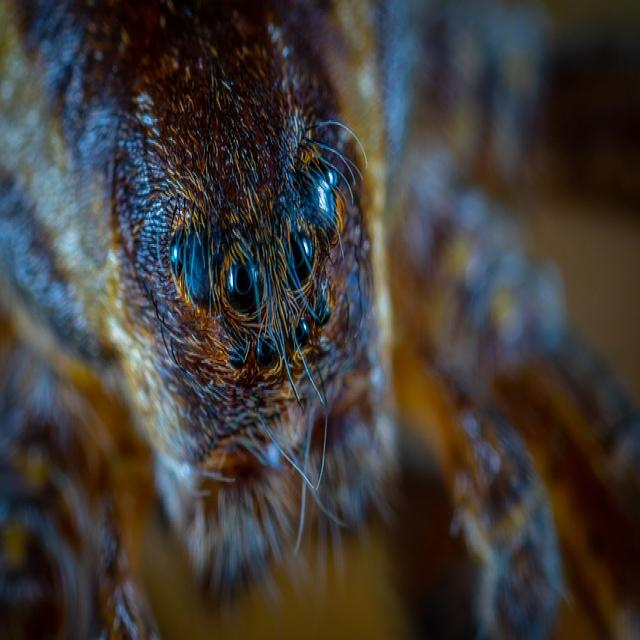spyder: (0, 4, 411, 594), (390, 147, 640, 637)
